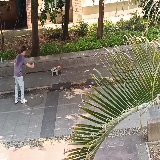fire: (58, 65, 61, 69)
